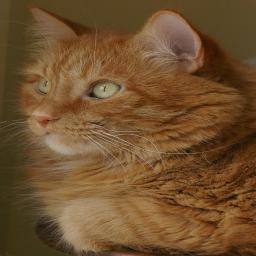catnose: (31, 111, 62, 129)
